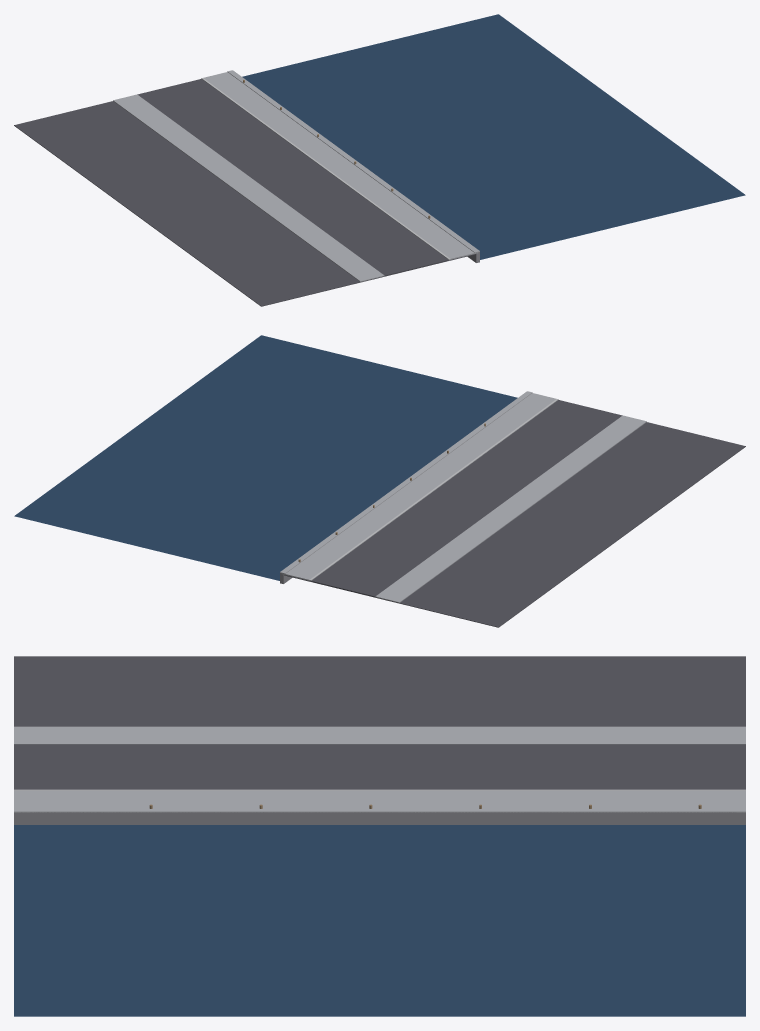
The model's file is bt-hw-ground.glb.
3 views of the same model, one above another, from view 1: azimuth 30°, elevation 25°; view 2: azimuth 150°, elevation 25°; view 3: azimuth 270°, elevation 25° (orthographic). The views are drawn at different scales.
Visible parts, largest first — view 1: bt-hw-ground_water, bt-hw-ground_base, bt-hw-ground_asphalt, bt-hw-ground_westpad, bt-hw-ground_apron, bt-hw-ground_wallcap, bt-hw-ground_curb; view 2: bt-hw-ground_water, bt-hw-ground_base, bt-hw-ground_asphalt, bt-hw-ground_westpad, bt-hw-ground_apron, bt-hw-ground_wallcap, bt-hw-ground_curb; view 3: bt-hw-ground_water, bt-hw-ground_base, bt-hw-ground_asphalt, bt-hw-ground_westpad, bt-hw-ground_apron, bt-hw-ground_quaywall, bt-hw-ground_wallcap, bt-hw-ground_curb.
Part boxes in pixels (bbox=[...]): bt-hw-ground_water: bbox=[242, 14, 745, 259]; bt-hw-ground_base: bbox=[14, 101, 475, 306]; bt-hw-ground_asphalt: bbox=[137, 79, 448, 275]; bt-hw-ground_westpad: bbox=[113, 94, 384, 282]; bt-hw-ground_apron: bbox=[201, 72, 478, 259]; bt-hw-ground_wallcap: bbox=[227, 70, 479, 252]; bt-hw-ground_curb: bbox=[201, 78, 450, 260]; bt-hw-ground_water: bbox=[14, 335, 517, 580]; bt-hw-ground_base: bbox=[284, 422, 745, 627]; bt-hw-ground_asphalt: bbox=[311, 400, 622, 596]; bt-hw-ground_westpad: bbox=[375, 415, 646, 603]; bt-hw-ground_apron: bbox=[281, 393, 557, 580]; bt-hw-ground_wallcap: bbox=[280, 391, 532, 573]; bt-hw-ground_curb: bbox=[309, 399, 558, 581]; bt-hw-ground_water: bbox=[14, 825, 745, 1016]; bt-hw-ground_base: bbox=[14, 656, 745, 726]; bt-hw-ground_asphalt: bbox=[14, 744, 745, 789]; bt-hw-ground_westpad: bbox=[14, 726, 745, 744]; bt-hw-ground_apron: bbox=[14, 791, 745, 807]; bt-hw-ground_quaywall: bbox=[14, 812, 745, 824]; bt-hw-ground_wallcap: bbox=[14, 807, 745, 812]; bt-hw-ground_curb: bbox=[14, 789, 745, 790].
Size of the model in its own units: 90.5 by 2.6 by 80.
